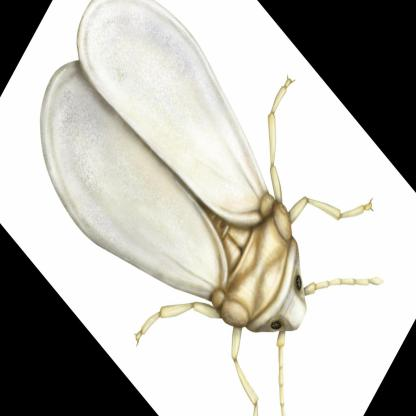whitefly: (40, 0, 383, 407)
